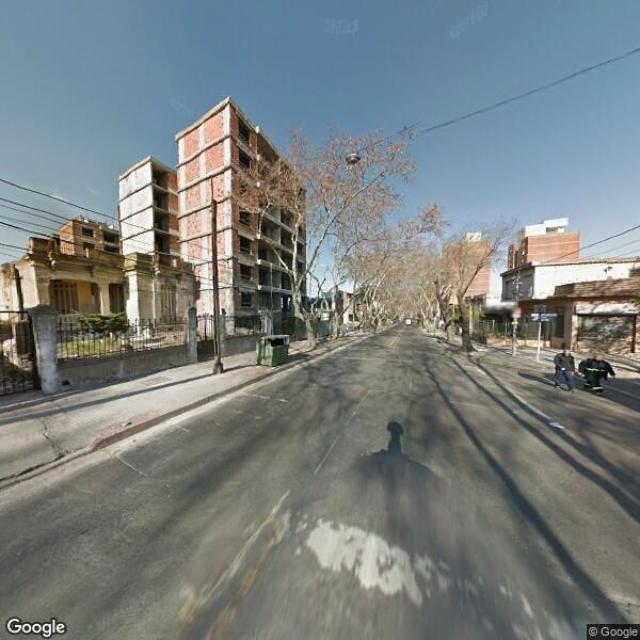garbage container: (245, 330, 301, 370)
